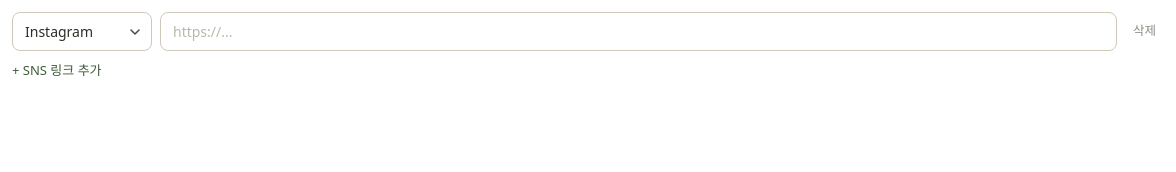
it: SnsLinksRepeater (기타 라벨 입력) › SNS 플랫폼에서 기타를 선택하면 플랫폼명 입력이 나타난다
Expected: the field with placeholder "플랫폼명" is not shown
Select "기타" in the dropdown: (82, 32) [12,12,152,51]
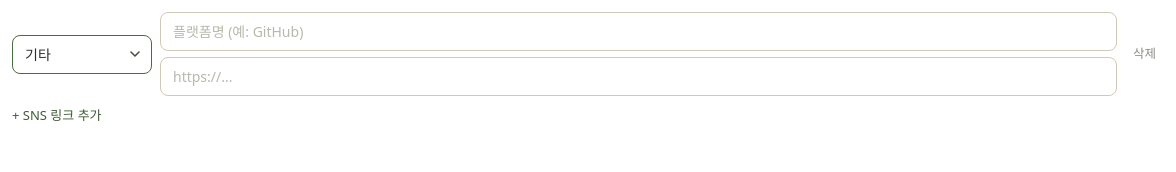
Expected: the field with placeholder "플랫폼명 (예: GitHub)" is shown, [160,12,1117,51]
